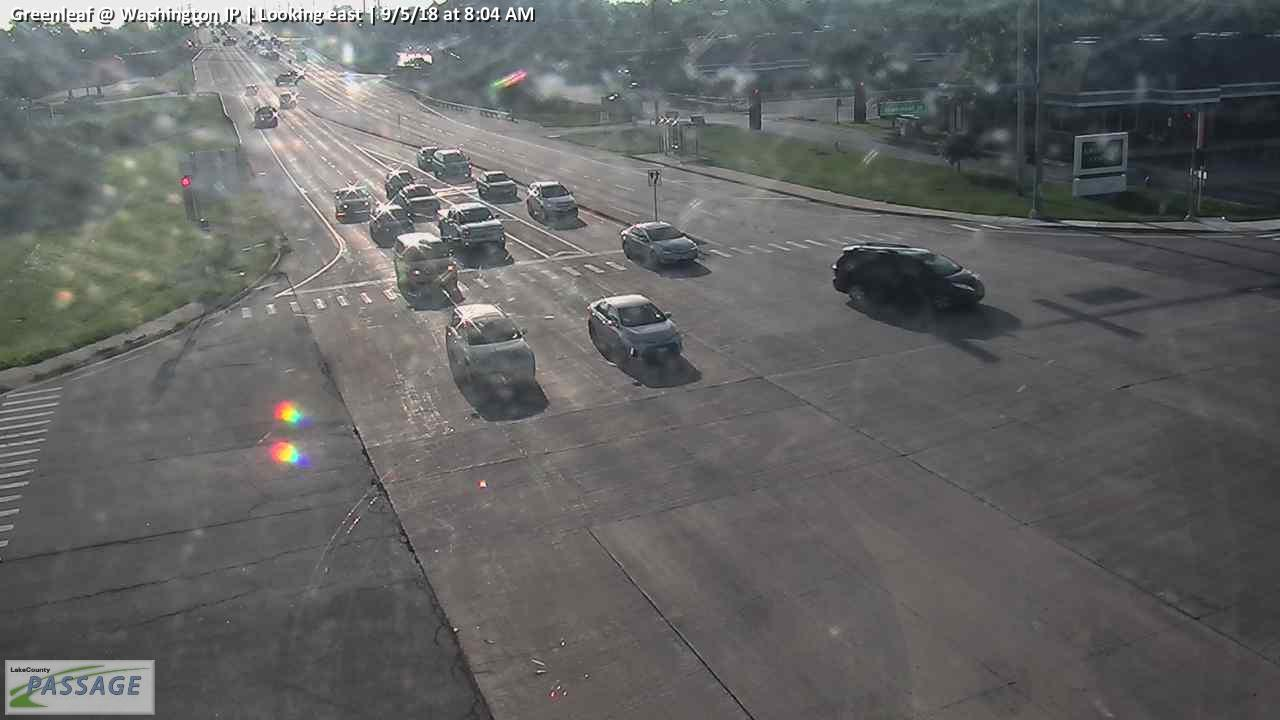SUV: (833, 242, 985, 311), (448, 304, 536, 384), (394, 232, 457, 288), (434, 149, 471, 182)
Sedan: (588, 294, 682, 363), (620, 221, 699, 266), (526, 180, 579, 223), (368, 205, 413, 248), (398, 184, 440, 215), (476, 169, 516, 200), (335, 187, 369, 221), (383, 170, 413, 196), (256, 105, 278, 129), (417, 145, 437, 169), (280, 93, 296, 108), (276, 72, 294, 85)
Truck: (437, 203, 506, 251)
